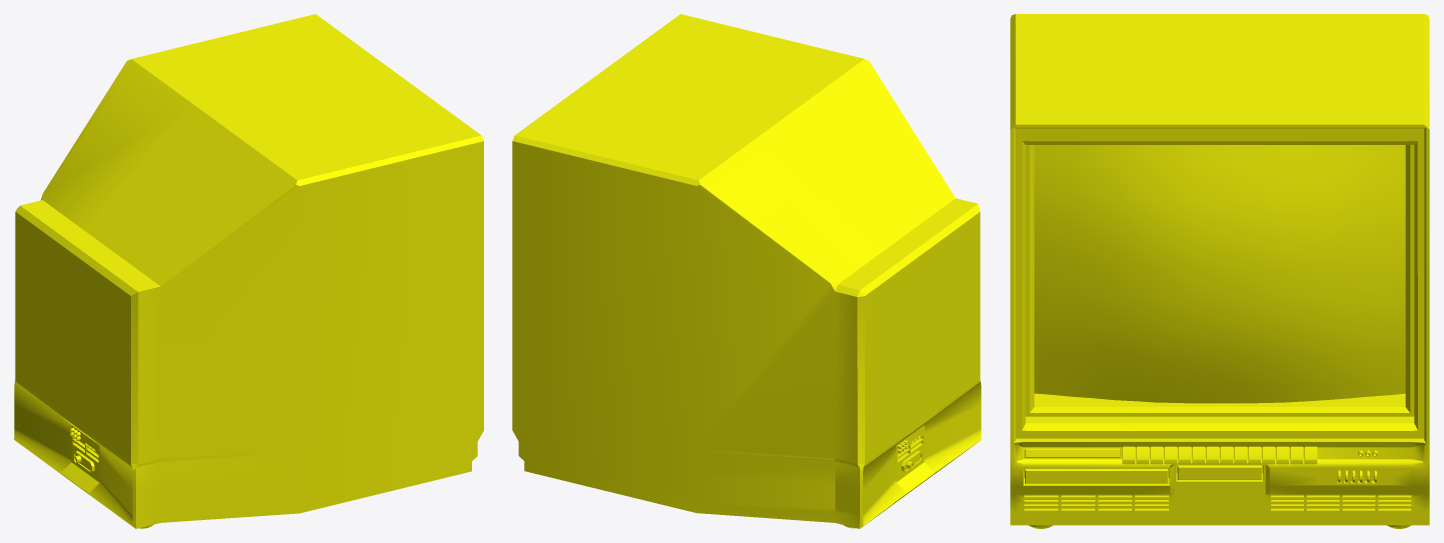
The model's file is crt.glb.
3 renders of one model, left to right at view 1: azimuth 30°, elevation 25°; view 2: azimuth 150°, elevation 25°; view 3: azimuth 270°, elevation 25°, orthographic. The views are drawn at different scales.
Parts seen in each view (by area): view 1: Cylinder; view 2: Cylinder; view 3: Cylinder.
Part boxes in pixels (x1,y1,x2,y2): Cylinder: (14,14,483,528); Cylinder: (512,14,981,528); Cylinder: (1010,14,1429,528).
Size of the model in its own units: 2.22 by 2.19 by 2.
Materials: 1 (1 with a texture image).
